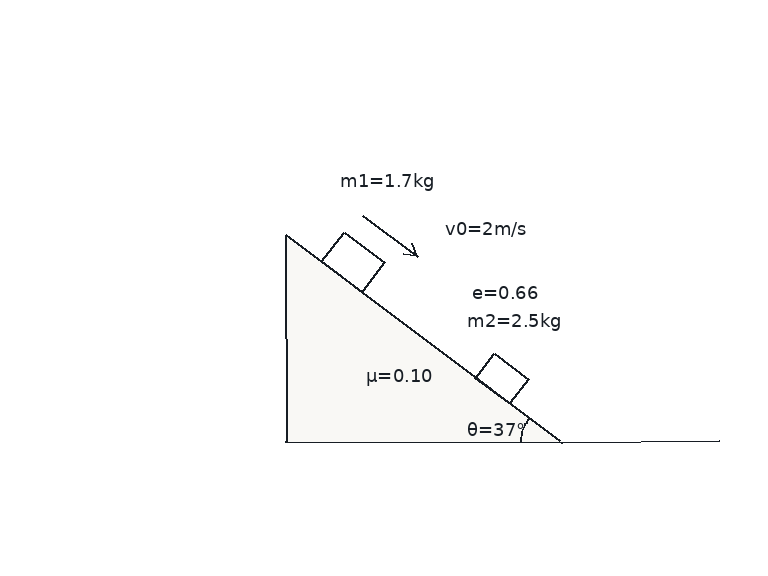block: (319, 229, 386, 294), (474, 351, 529, 405)
ramp: (284, 233, 563, 444)
